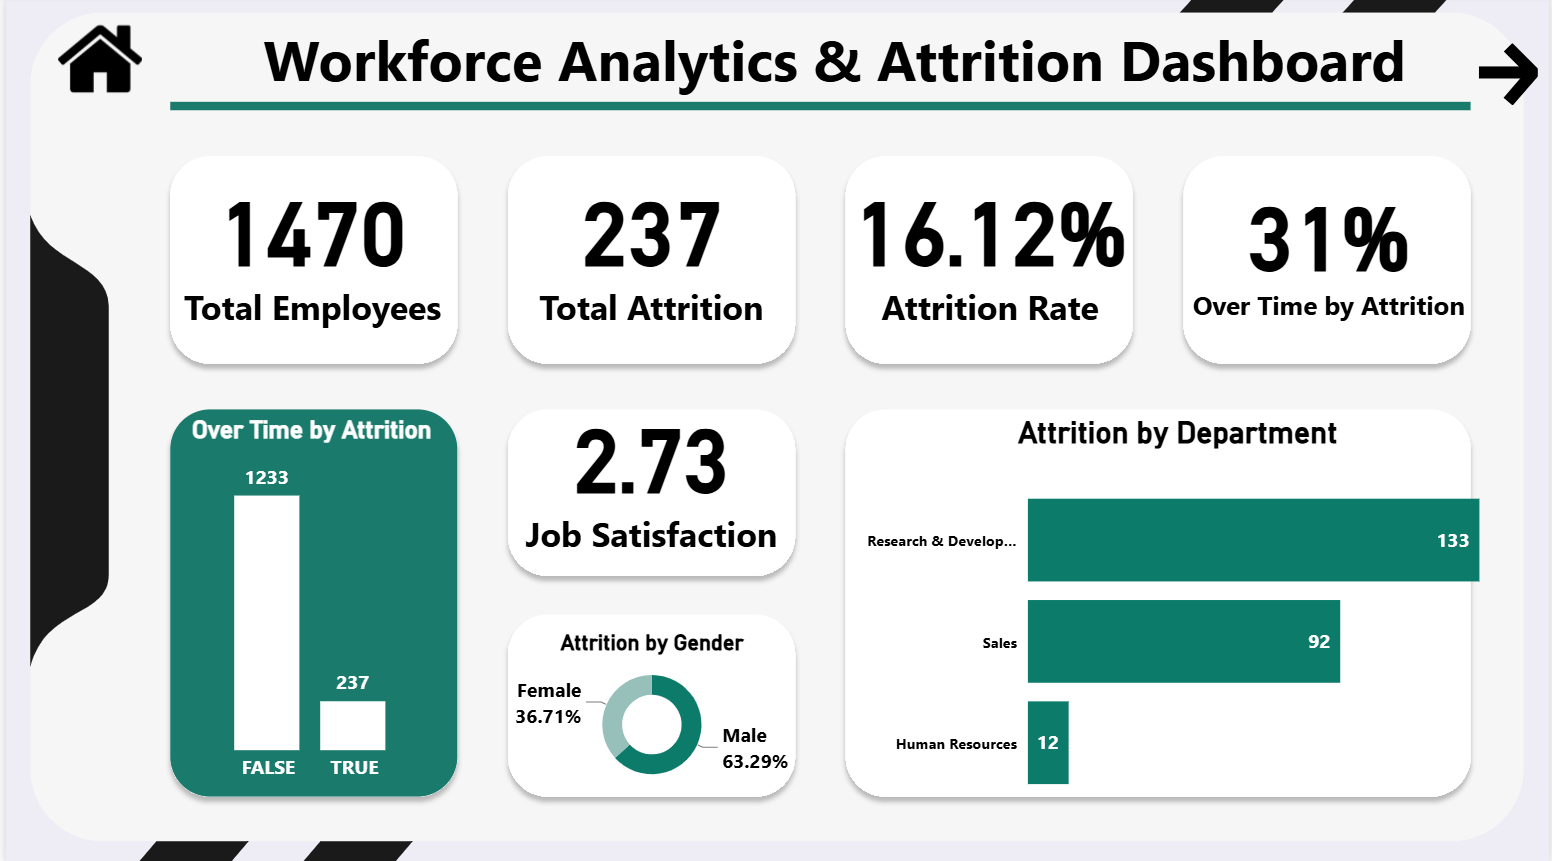

The dashboard page shown, as its layout file describes it:
{"tool":"powerbi","page":{"name":"HR Summary","canvas":[1280,720],"ordinal":1},"visuals":[{"type":"textbox","title":"Workforce Analytics & Attrition Dashboard","box":[186.2,20,1001.2,96.2],"z":0},{"type":"card","fields":{"Values":["Measures (2).Total Employees"]},"box":[134.5,124.6,239.3,163.1],"z":1000},{"type":"card","fields":{"Values":["Measures (2).Total Attrition"]},"box":[415.5,124.6,239.3,163.1],"z":2000},{"type":"card","fields":{"Values":["Measures (2).Overtime Attririon"]},"box":[977.4,124.8,239.3,163.1],"z":3000},{"type":"card","fields":{"Values":["Measures (2).Attrition Rate %"]},"box":[696.4,124.6,239.3,163.1],"z":4000},{"type":"clusteredColumnChart","title":"Over Time by Attrition","fields":{"Category":["HR-Employee-Attrition.Attrition"],"Y":["CountNonNull(HR-Employee-Attrition.OverTime)"]},"box":[120.2,347.6,266.7,314.3],"z":5000},{"type":"donutChart","title":"Attrition by Gender","fields":{"Y":["Measures (2).Total Attrition"],"Category":["HR-Employee-Attrition.Gender"]},"box":[416.7,525,238.1,136.9],"z":6000},{"type":"card","fields":{"Values":["Measures (2).Avg Job Satisfaction"]},"box":[415.5,313.1,239.3,163.1],"z":7000},{"type":"barChart","title":"Attrition by Department","fields":{"Category":["HR-Employee-Attrition.Department"],"Y":["Measures (2).Total Attrition"]},"box":[696.4,347.6,550,347.6],"z":8000},{"type":"actionButton","box":[1208.3,35.7,71.4,59.5],"z":9000},{"type":"actionButton","box":[20.2,8.3,114.3,86.9],"z":10000}]}

Visuals, with their boxes in screenshot pixels (x1, y1, x2, y2), scaled from the page's 1280x720 canvas onto the 1552x861 screenshot:
"Workforce Analytics & Attrition Dashboard" textbox: 226/24/1440/139
card - Measures (2).Total Employees: 163/149/453/344
card - Measures (2).Total Attrition: 504/149/794/344
card - Measures (2).Overtime Attririon: 1185/149/1475/344
card - Measures (2).Attrition Rate %: 844/149/1135/344
"Over Time by Attrition" clusteredColumnChart: 146/416/469/792
"Attrition by Gender" donutChart: 505/628/794/792
card - Measures (2).Avg Job Satisfaction: 504/374/794/569
"Attrition by Department" barChart: 844/416/1511/831
actionButton: 1465/43/1551/114
actionButton: 24/10/163/114
